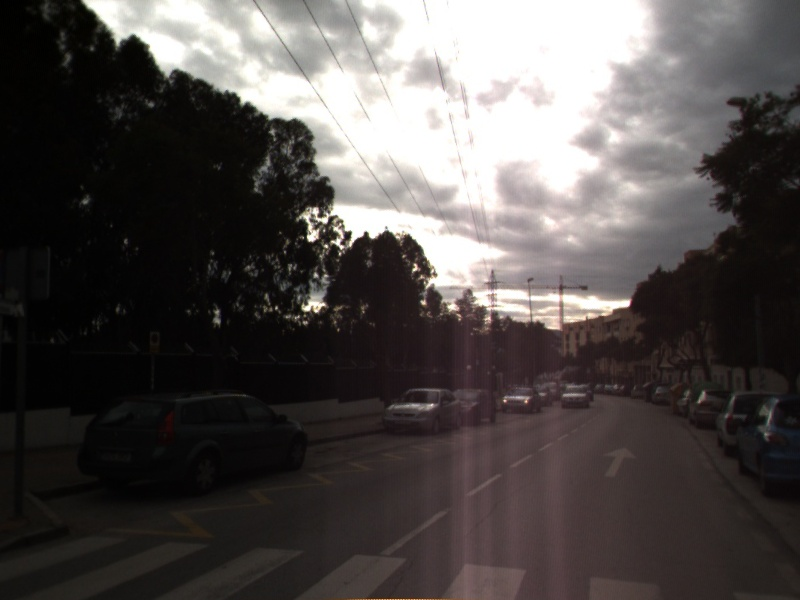STRAIGHT: (599, 445, 639, 479)
